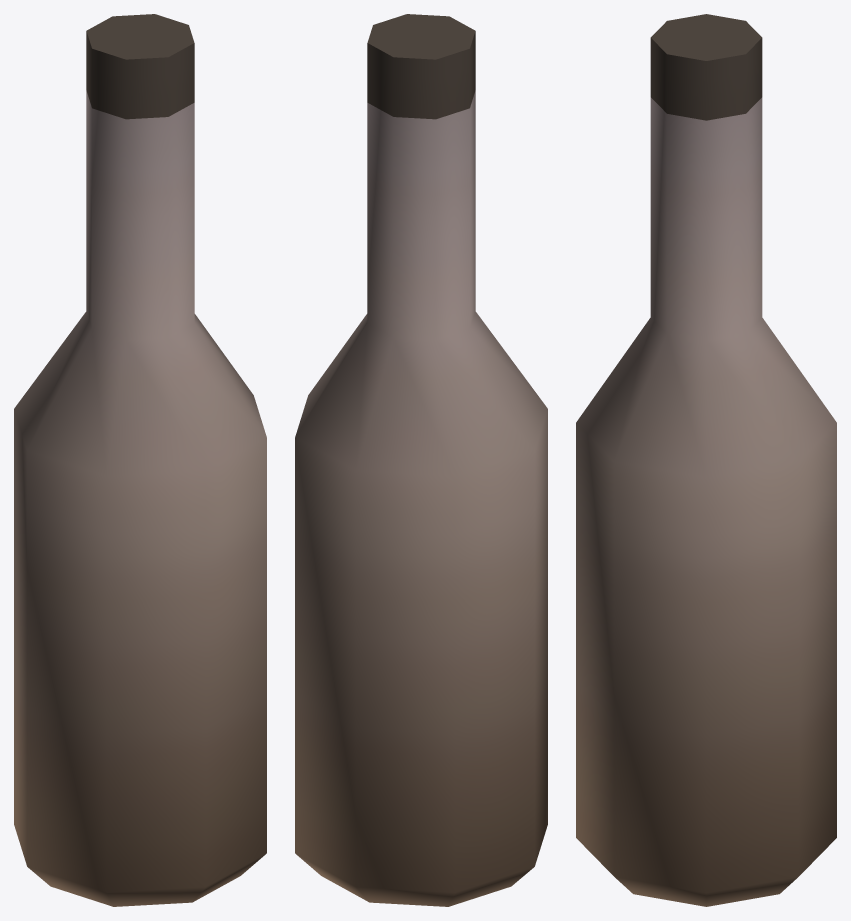
File: SM_Bottle_01.fbx
3 renders of one model, left to right at view 1: azimuth 30°, elevation 25°; view 2: azimuth 150°, elevation 25°; view 3: azimuth 270°, elevation 25°, orthographic.
Parts seen in each view (by area): view 1: SM_Bottle_01; view 2: SM_Bottle_01; view 3: SM_Bottle_01.
Part boxes in pixels (x1,y1,x2,y2): SM_Bottle_01: (14, 14, 266, 906); SM_Bottle_01: (295, 14, 547, 906); SM_Bottle_01: (576, 14, 836, 906).
Bounding box in the file's own units: 0.1909 × 0.6663 × 0.1909.
